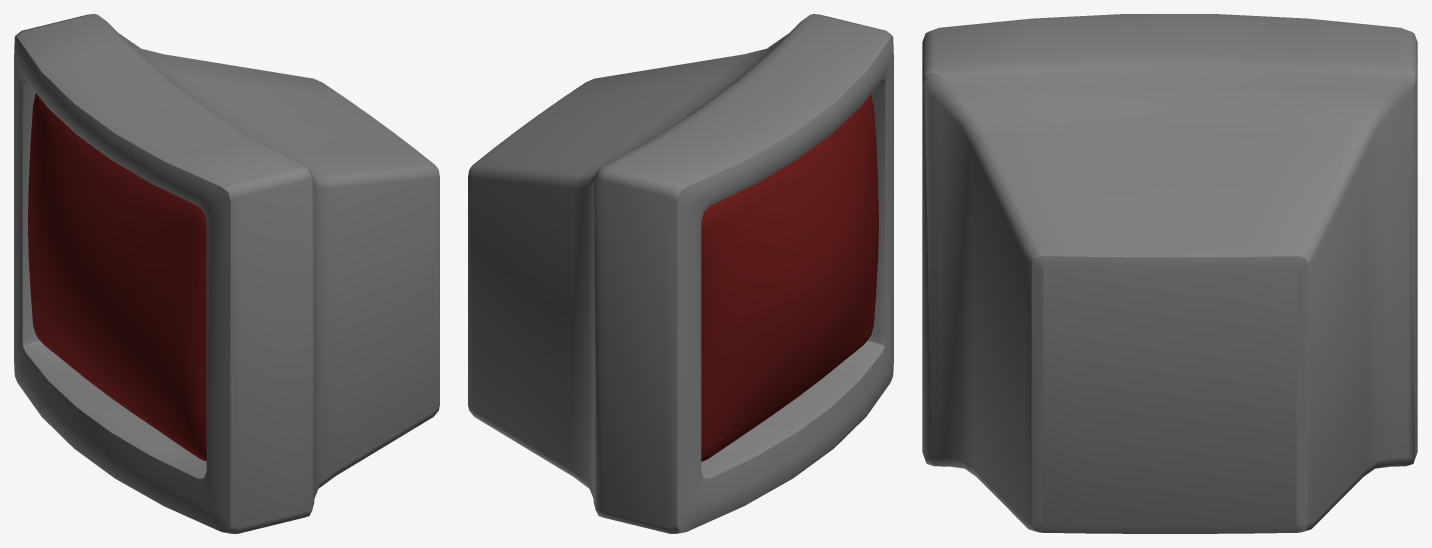
The model's file is SM_Television_low.fbx.
3 views of the same model, side by side, from view 1: azimuth 30°, elevation 25°; view 2: azimuth 150°, elevation 25°; view 3: azimuth 270°, elevation 25° (orthographic). The views are drawn at different scales.
Visible parts, largest first — view 1: SM_Television_low; view 2: SM_Television_low; view 3: SM_Television_low.
Boxes of the visible parts, <box> form: SM_Television_low: <box>14,14,439,533</box>; SM_Television_low: <box>468,14,893,533</box>; SM_Television_low: <box>922,14,1417,533</box>.
Size of the model in its own units: 222 by 240 by 272.
